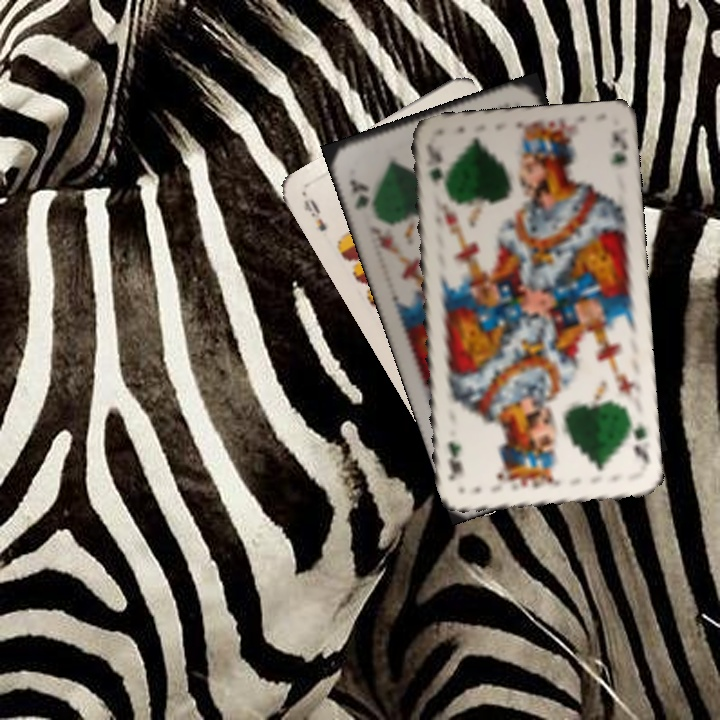E9: (299, 195, 330, 234)
GK: (623, 415, 652, 473), (421, 139, 446, 188), (345, 175, 372, 213)
